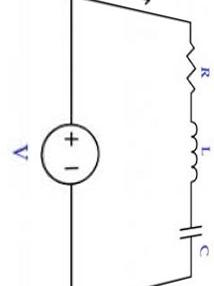inductor: (181, 108, 200, 189)
